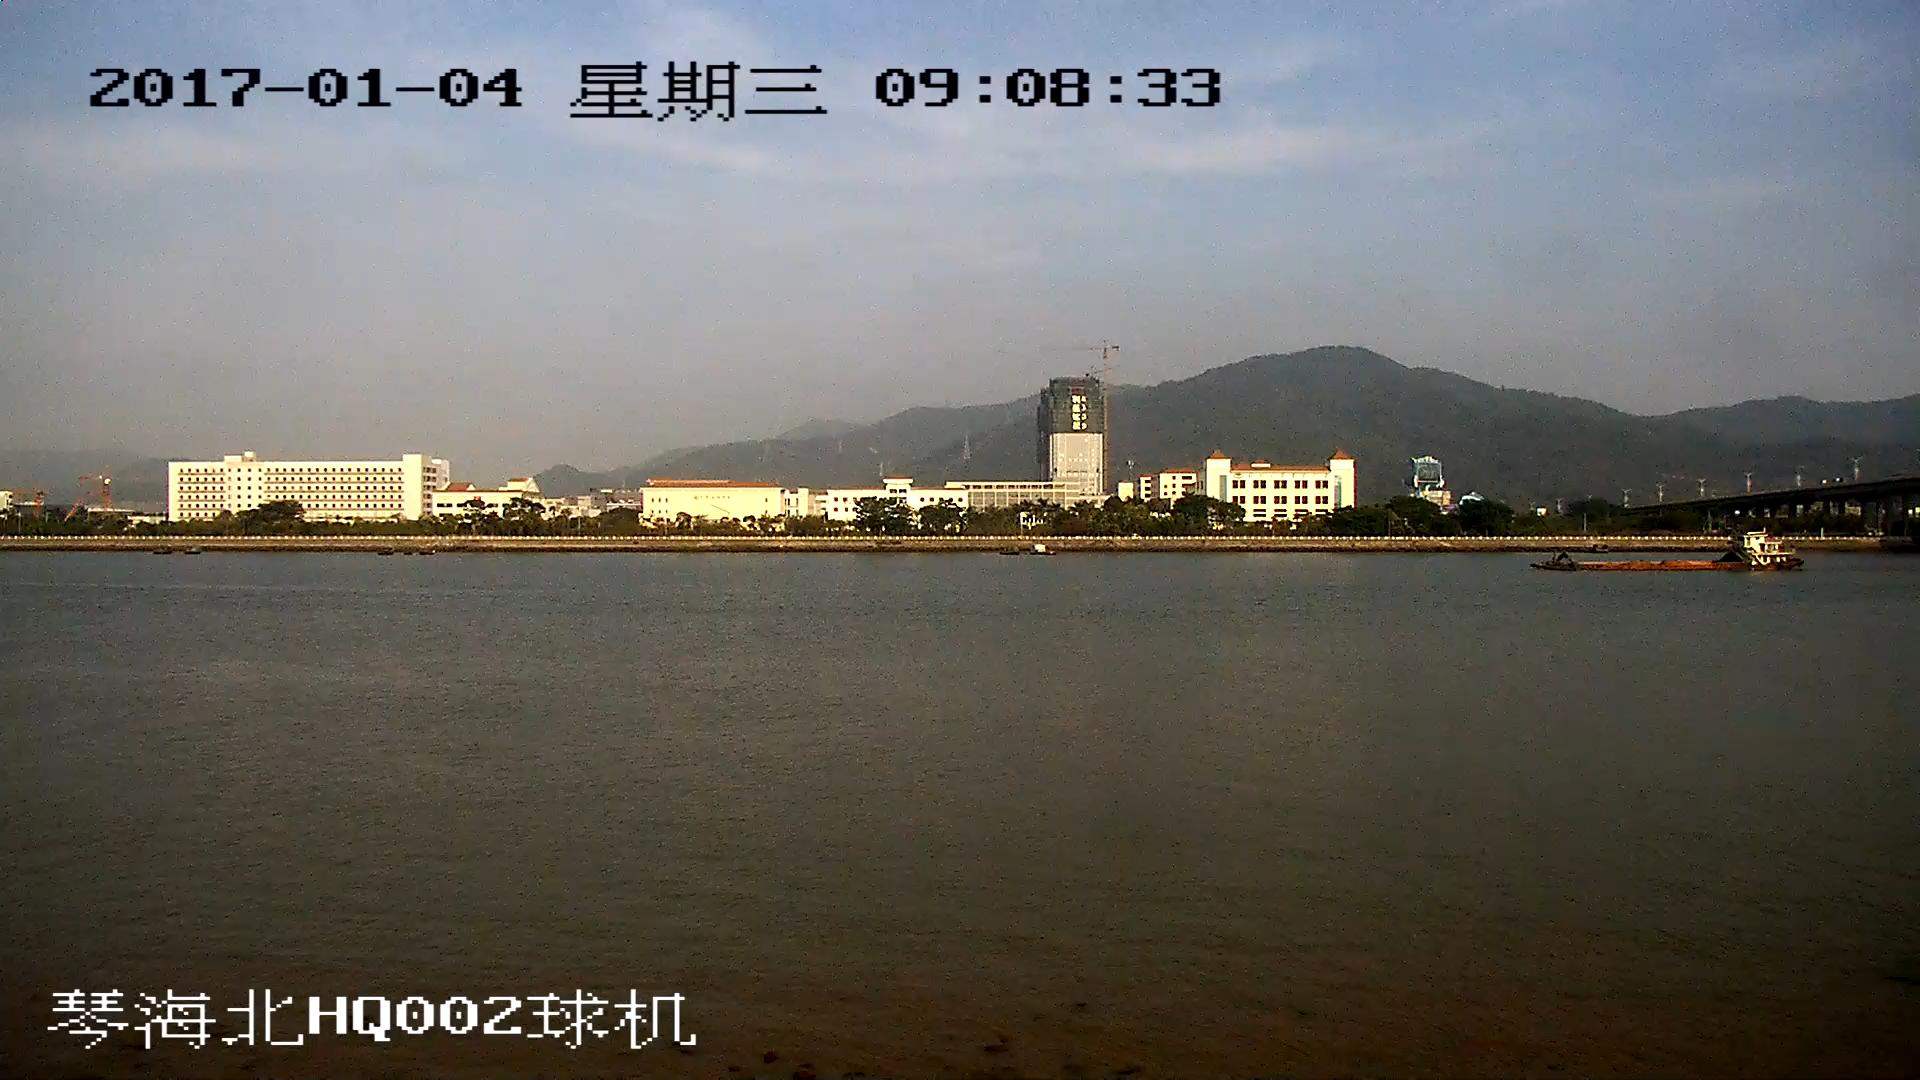ore carrier: (1549, 530, 1796, 574)
